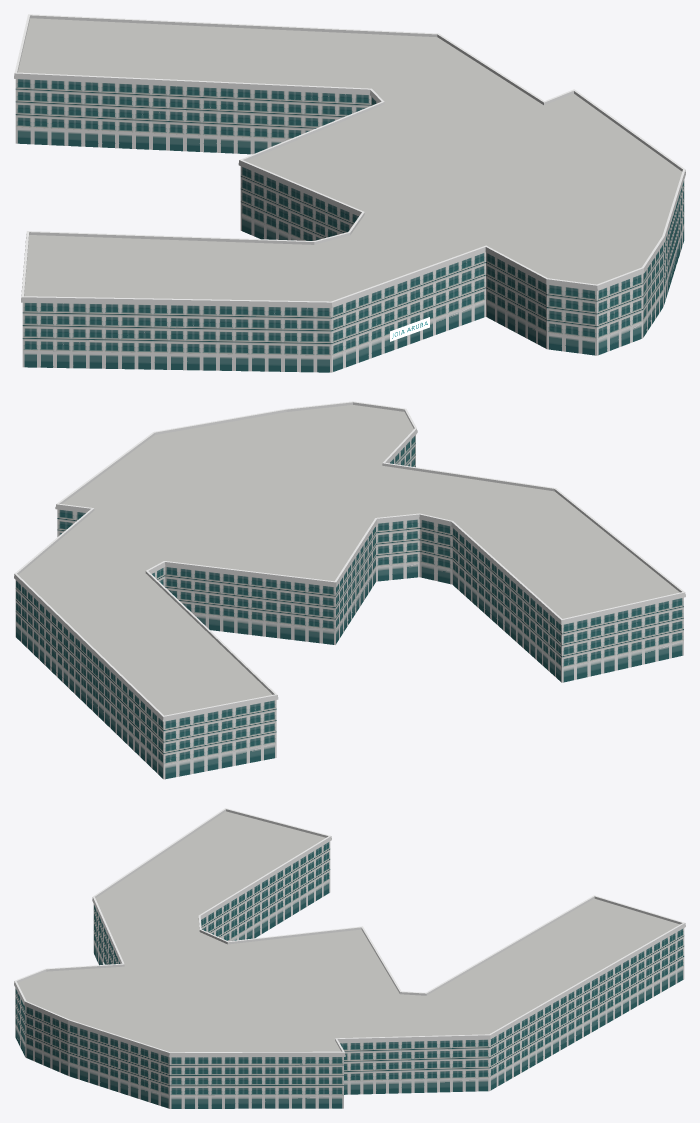
Rendered from joia.glb.
The picture shows the model from 3 angles, top to bottom: view 1: azimuth 30°, elevation 25°; view 2: azimuth 150°, elevation 25°; view 3: azimuth 270°, elevation 25°; orthographic projection. The views are drawn at different scales.
Visible parts, largest first — view 1: joia_lod0; view 2: joia_lod0; view 3: joia_lod0.
Part boxes in pixels (left/top/right/bottom): joia_lod0: left=14, top=14, right=685, bottom=372; joia_lod0: left=14, top=401, right=685, bottom=779; joia_lod0: left=14, top=808, right=685, bottom=1108.
Size of what is drawn, in the model's own units: 165 by 17.71 by 191.
Materials: 5 (3 with a texture image).
